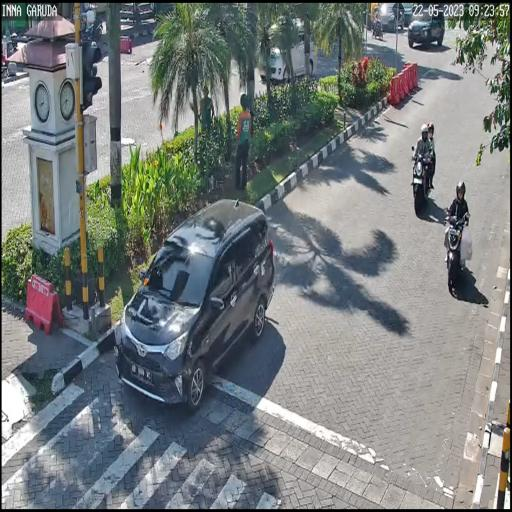mobil: (116, 193, 278, 411)
motor: (440, 197, 472, 307), (408, 144, 437, 219)
